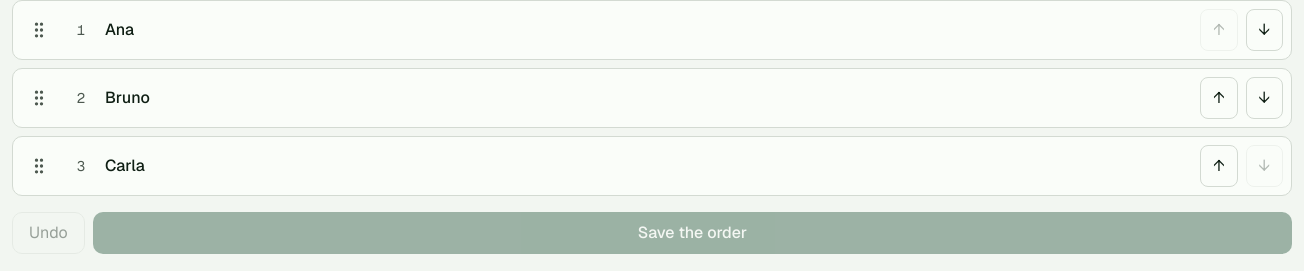
it: editing the ring's order › offers nothing to save until something moved
Expected: the button "Save the order" is disabled, 93,212 -> 1292,254
Expected: the button "Undo" is disabled, 12,212 -> 85,254
Click the button named "Move Carla up".
click(1219, 166)  # box 1200,145 -> 1238,187
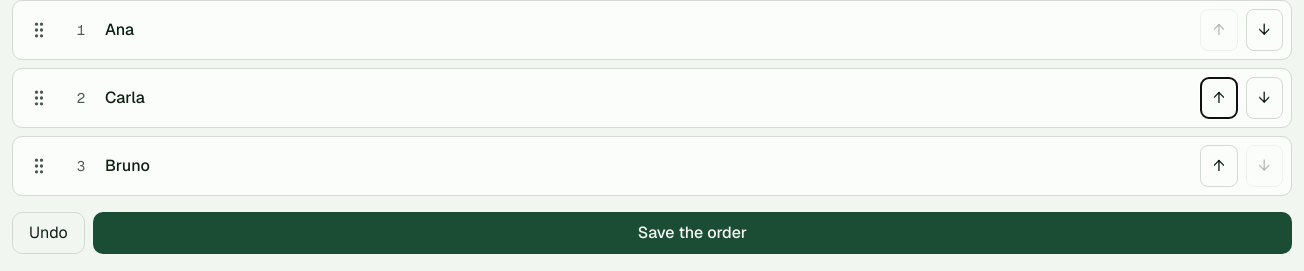
Now the button "Save the order" is enabled, box 93,212 -> 1292,254
